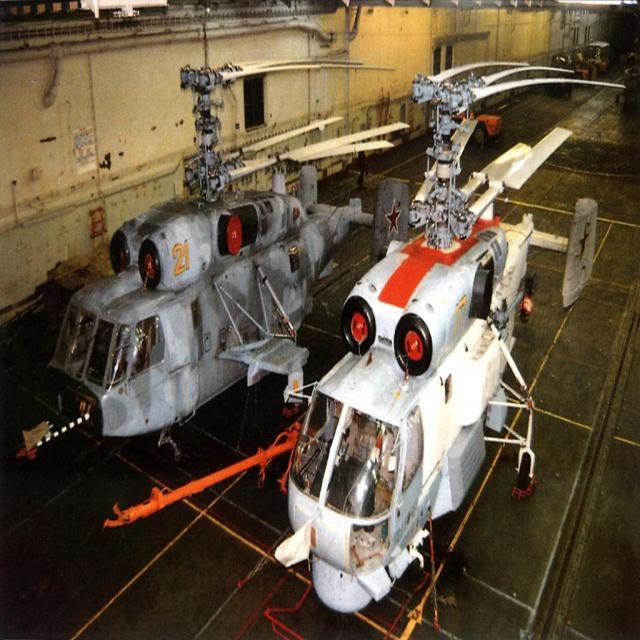MIL_HELO: (246, 46, 640, 621), (0, 27, 380, 494)
